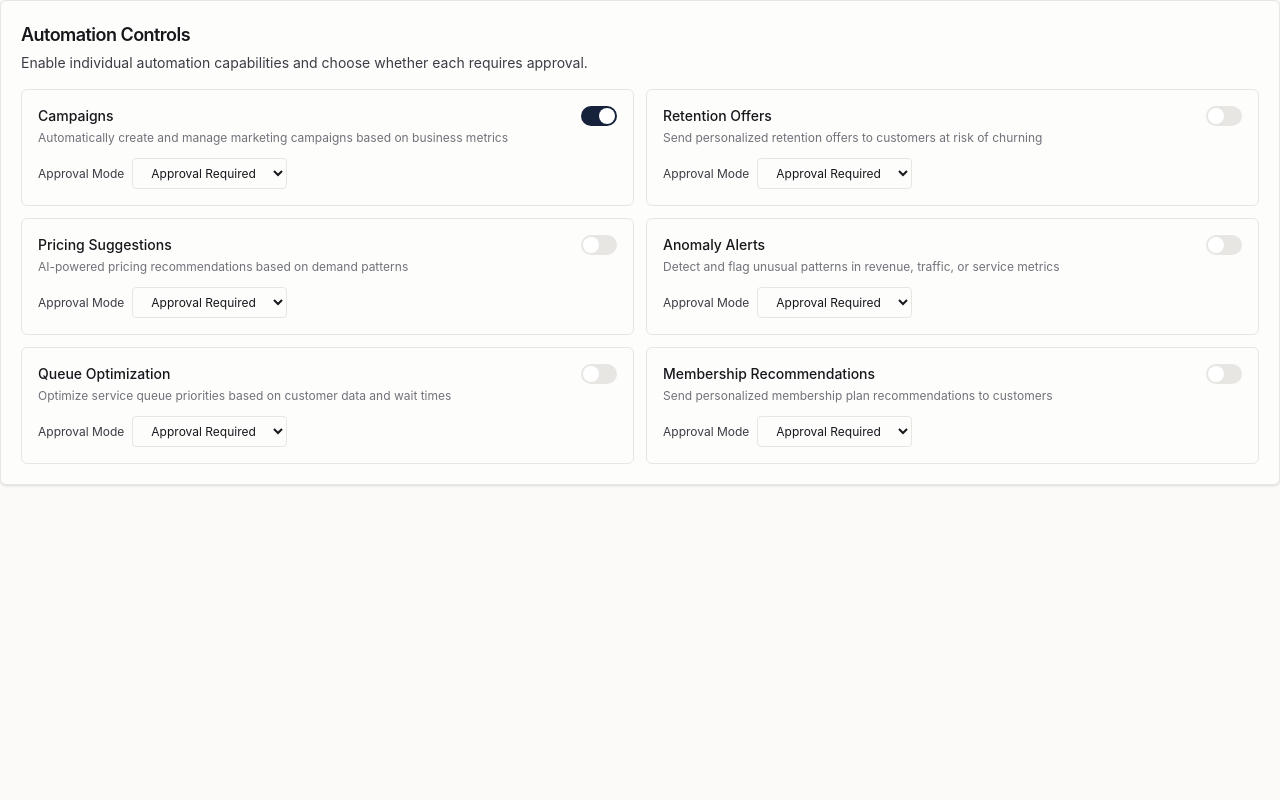
AutomationControlsSection › should show confirmation dialog when switching to autonomous mode
This screenshot has width=1280, height=800.
Select "Autonomous" in the dropdown with test id "approval-mode-campaigns" at (210, 174), box [132, 158, 287, 189]
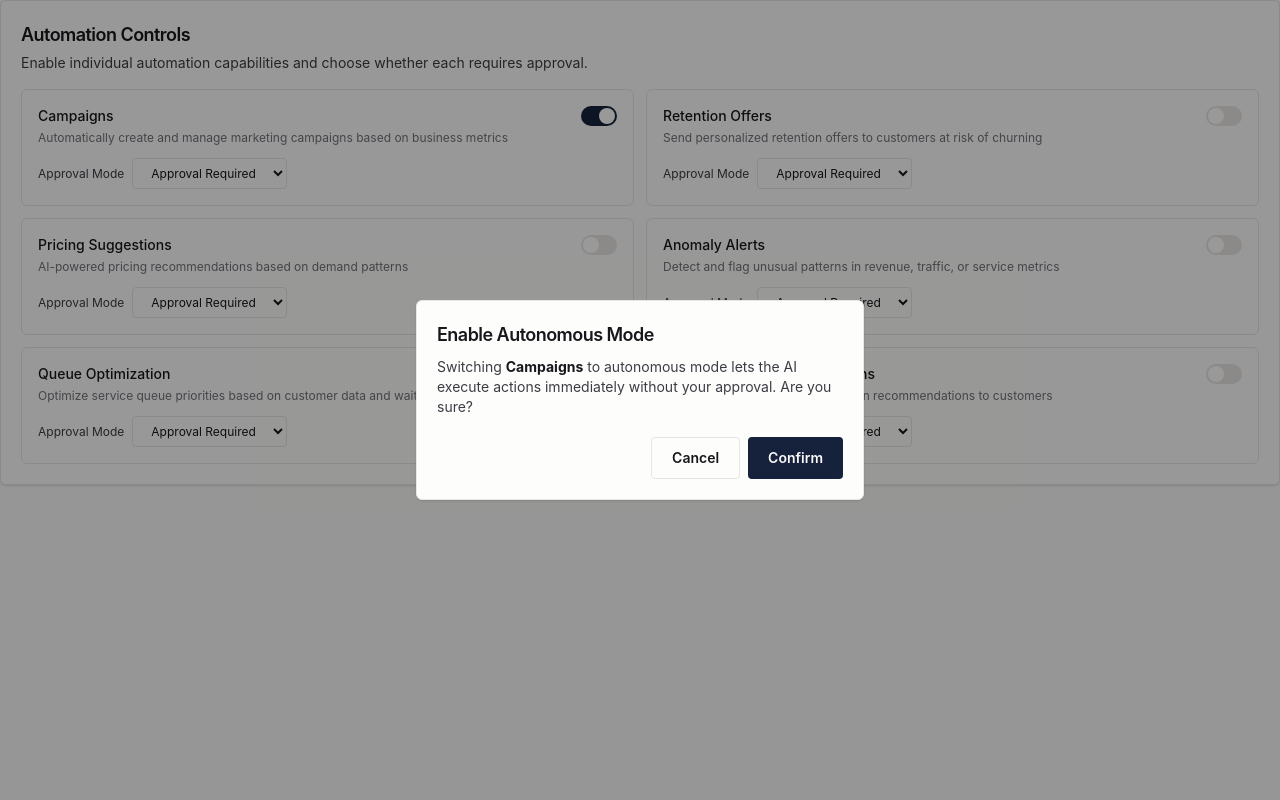
Expected: the dialog with test id "autonomous-confirm-dialog" is shown
